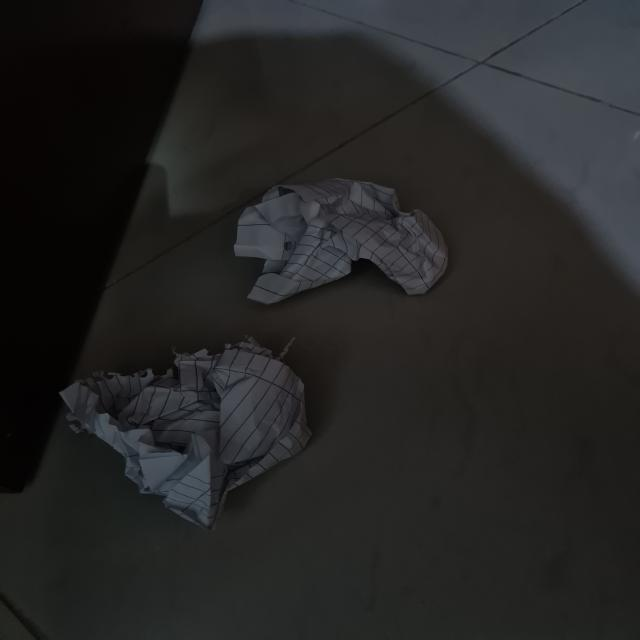Paper: (57, 340, 311, 524), (236, 190, 445, 308)
